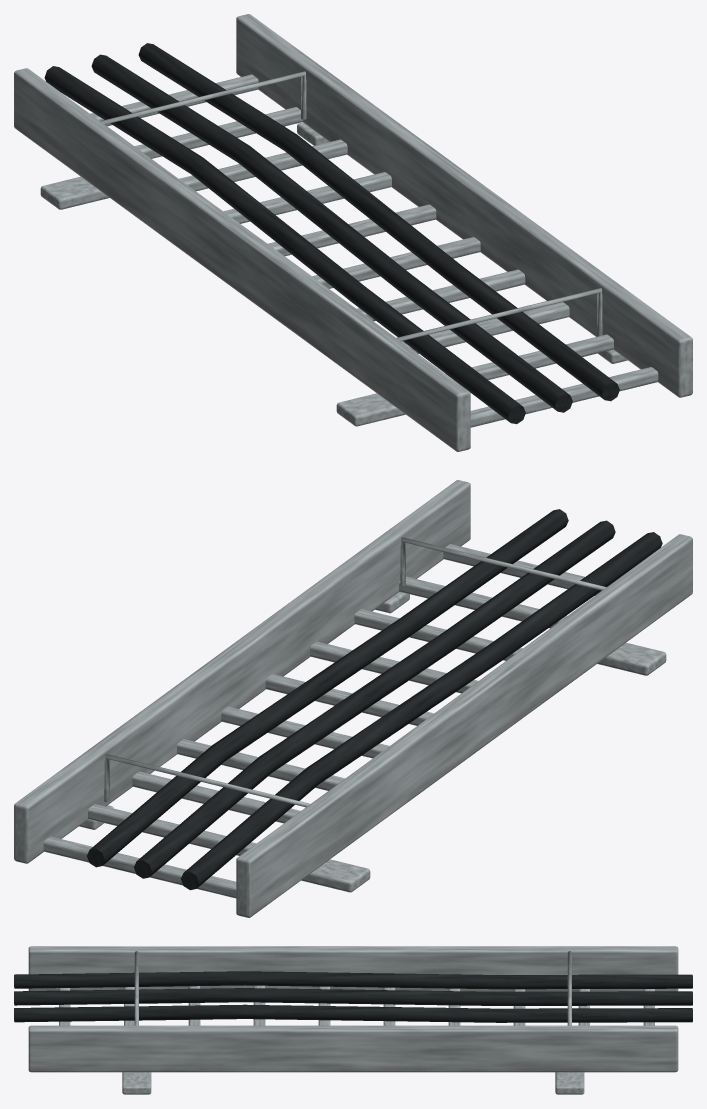
The model's file is GR_CableTray_01.glb.
3 views of the same model, one above another, from view 1: azimuth 30°, elevation 25°; view 2: azimuth 150°, elevation 25°; view 3: azimuth 270°, elevation 25° (orthographic). The views are drawn at different scales.
Visible parts, largest first — view 1: Static; view 2: Static; view 3: Static.
Part boxes in pixels (x1,y1,x2,y2): Static: (14,14,692,451); Static: (14,480,692,917); Static: (14,946,692,1094).
Size of the model in its own units: 0.73 by 0.1575 by 1.88.
Materials: 1 (1 with a texture image).
